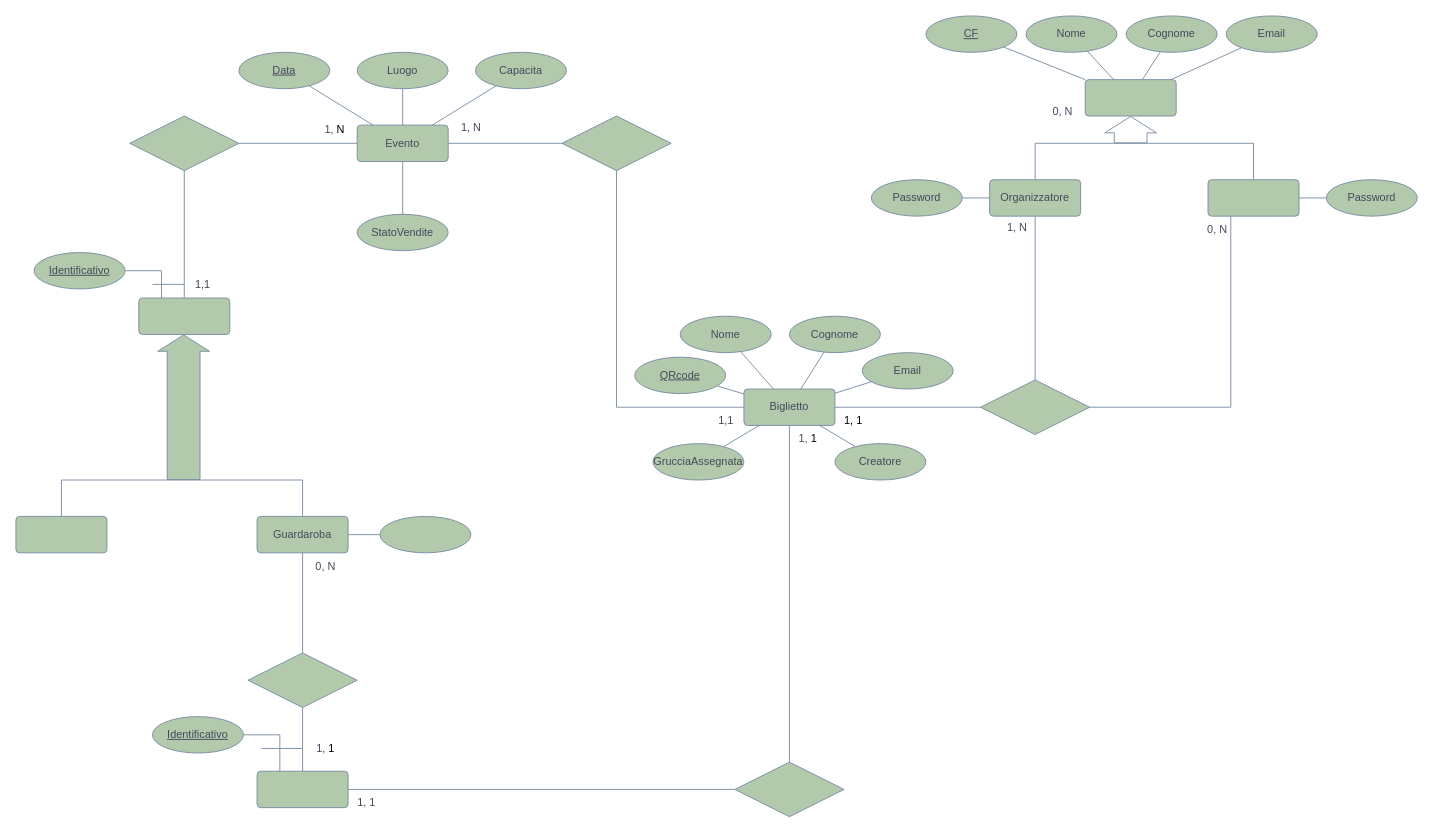
Image size: 1433x833. Some labels were removed from this diagram. Each missing label, with the centre of its shape:
"Assegna" belongs at (x=302, y=680).
"Banco" belongs at (x=184, y=315).
"Emette" belongs at (x=616, y=143).
"Genera" belongs at (x=1035, y=407).
"Gruccia" belongs at (x=302, y=789).
"HA" belongs at (x=184, y=143).
"Ingresso" belongs at (x=61, y=534).
"MaxGrucce" belongs at (x=425, y=534).
"PER" belongs at (x=789, y=789).
"Persona" belongs at (x=1130, y=97).
"Staff" belongs at (x=1253, y=197).
